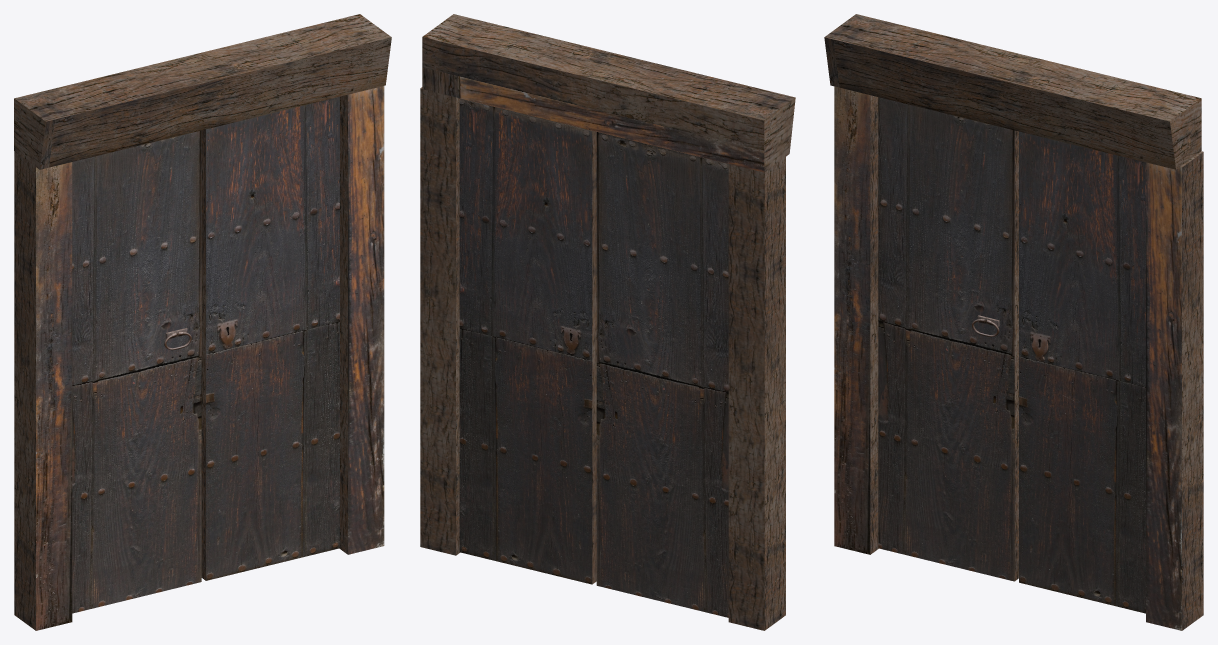
The model's file is Door_R.fbx.
3 views of the same model, side by side, from view 1: azimuth 30°, elevation 25°; view 2: azimuth 150°, elevation 25°; view 3: azimuth 330°, elevation 25° (orthographic).
Visible parts, largest first — view 1: Group1 DoorFrame, Group1 DoorB, Group1 DoorA; view 2: Group1 DoorFrame, Group1 DoorB, Group1 DoorA; view 3: Group1 DoorFrame, Group1 DoorA, Group1 DoorB.
Boxes of the visible parts, x1,y1,x2,y2 form: Group1 DoorFrame: [14, 14, 391, 630]; Group1 DoorB: [201, 96, 339, 580]; Group1 DoorA: [72, 130, 201, 613]; Group1 DoorFrame: [420, 14, 795, 630]; Group1 DoorB: [459, 98, 596, 584]; Group1 DoorA: [596, 132, 728, 617]; Group1 DoorFrame: [824, 14, 1203, 630]; Group1 DoorA: [878, 97, 1018, 581]; Group1 DoorB: [1019, 131, 1145, 613].
Size of the model in its own units: 3.81 by 5.4 by 0.6034.
Materials: 1 (1 with a texture image).
